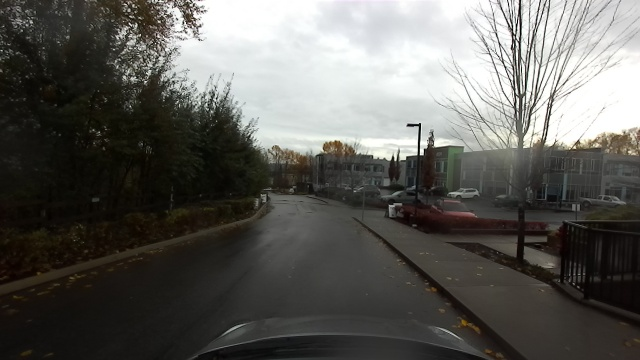car: (575, 194, 622, 210), (491, 193, 532, 208), (379, 190, 417, 205), (446, 188, 482, 199), (354, 186, 381, 197)
